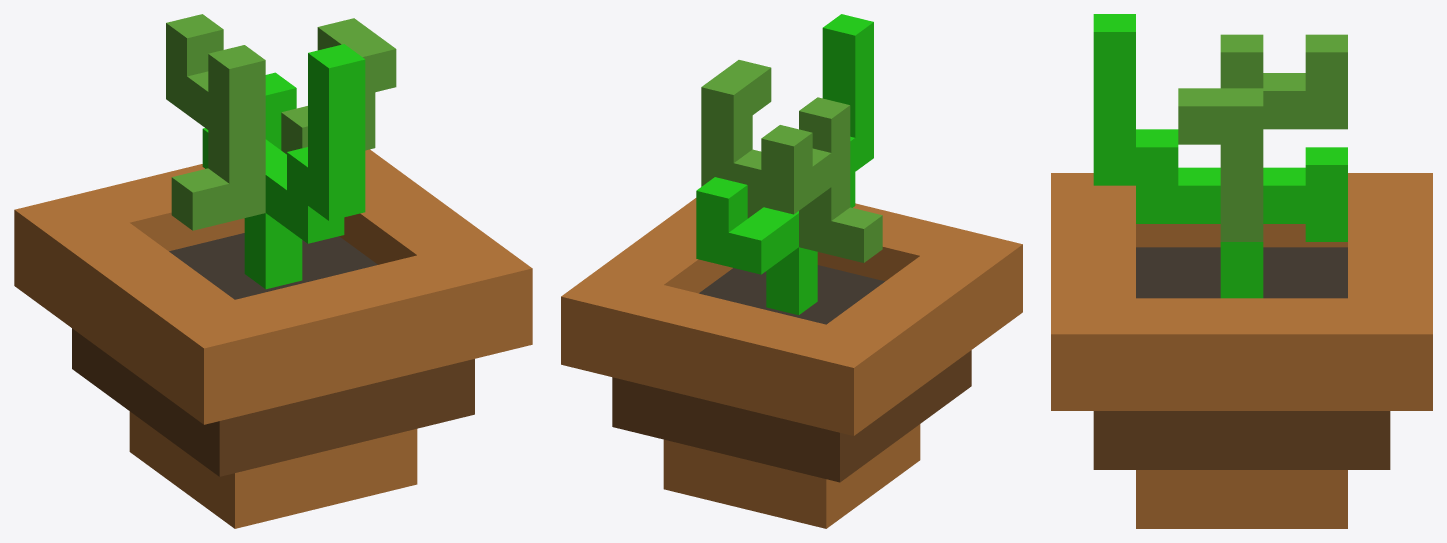
Rendered from Proto_101_bot_01.dae.
The picture shows the model from 3 angles, left to right: view 1: azimuth 30°, elevation 25°; view 2: azimuth 150°, elevation 25°; view 3: azimuth 270°, elevation 25°; orthographic projection. The views are drawn at different scales.
Parts seen in each view (by area): view 1: Box_3; view 2: Box_3; view 3: Box_3.
Part boxes in pixels (bbox=[...]): Box_3: bbox=[14, 14, 532, 528]; Box_3: bbox=[561, 14, 1022, 528]; Box_3: bbox=[1051, 14, 1432, 528].
Bounding box in the file's own units: 9 × 12 × 9.
